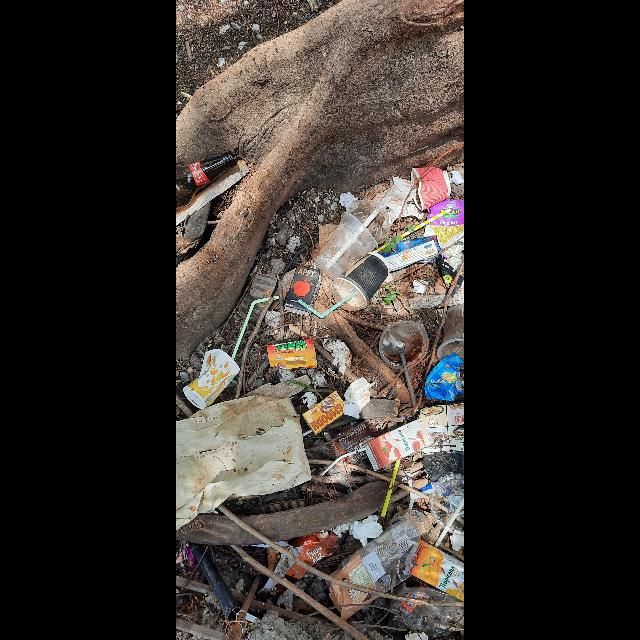trash: (177, 394, 313, 530), (327, 510, 431, 618), (314, 212, 378, 280), (363, 418, 433, 470), (407, 538, 463, 602), (183, 348, 241, 409), (371, 234, 442, 272), (424, 198, 464, 250), (381, 176, 423, 224), (282, 266, 322, 316), (423, 352, 462, 402), (302, 390, 344, 436), (411, 166, 452, 210), (266, 337, 318, 369), (342, 377, 376, 419), (418, 404, 448, 428), (446, 402, 464, 426)
